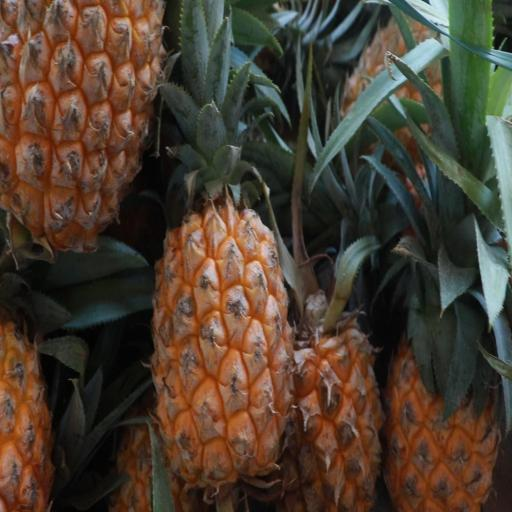Pineapple - v8 v1: (147, 133, 298, 494), (383, 187, 505, 512), (268, 246, 387, 506)
